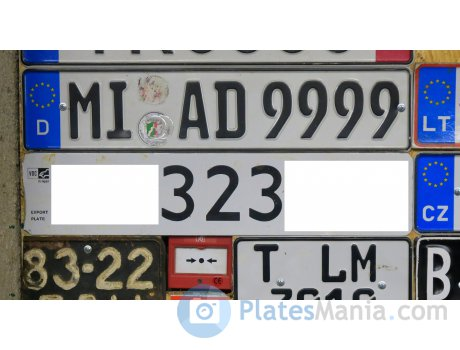License Plates: (64, 78, 400, 137)
